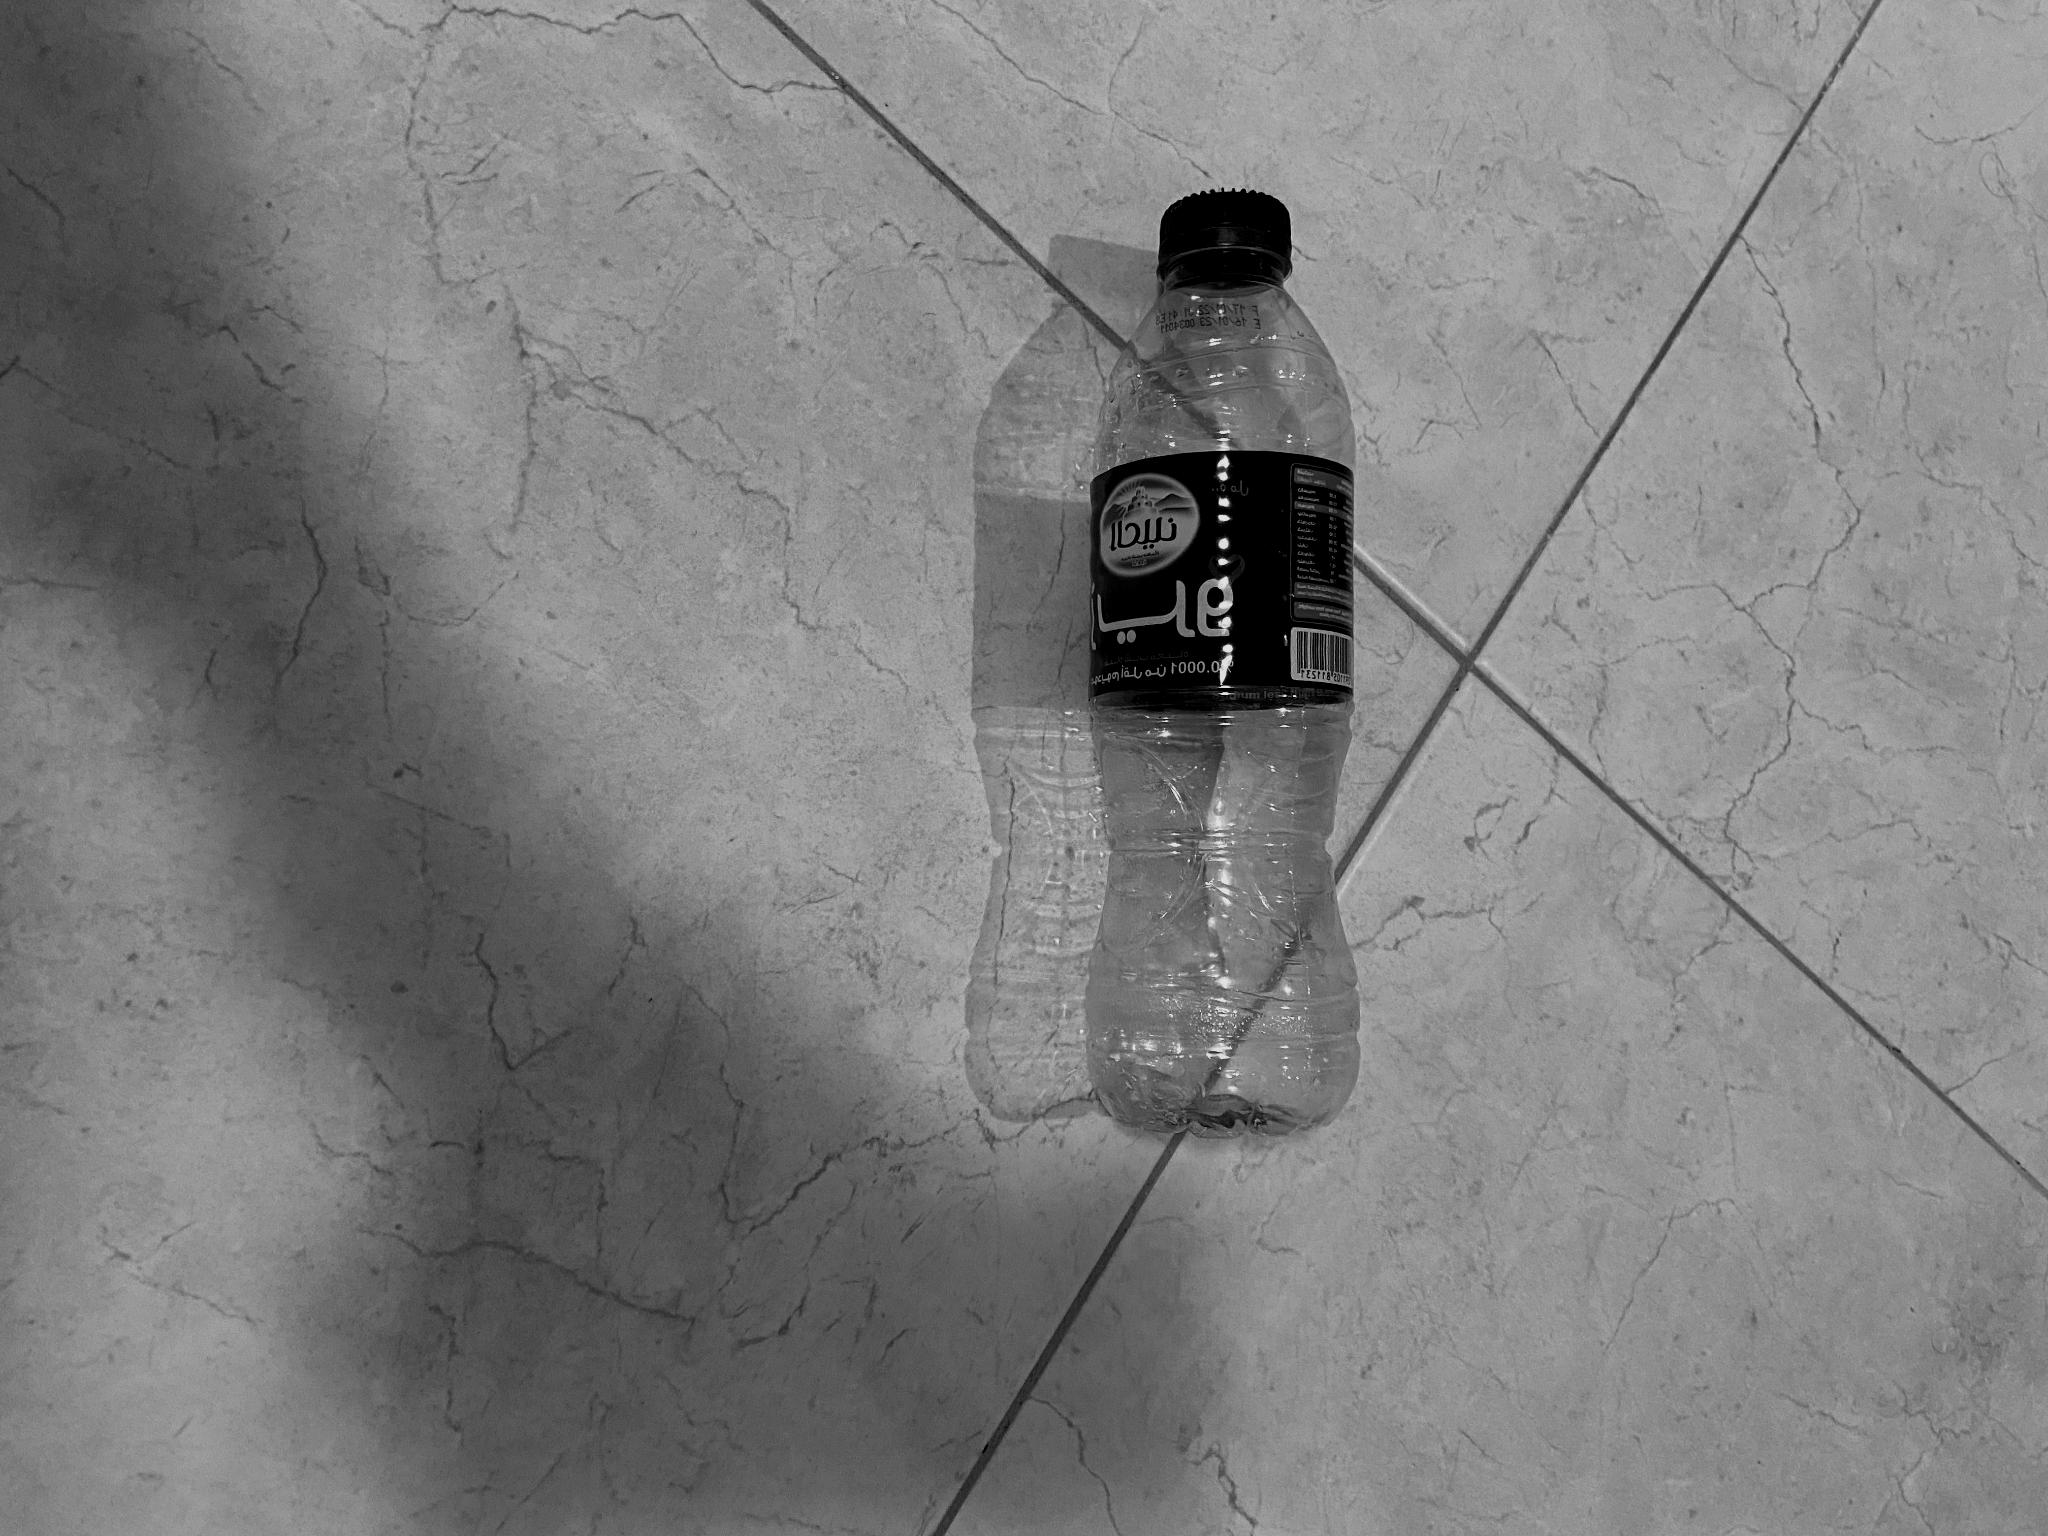bottle: (1069, 189, 1366, 1163)
